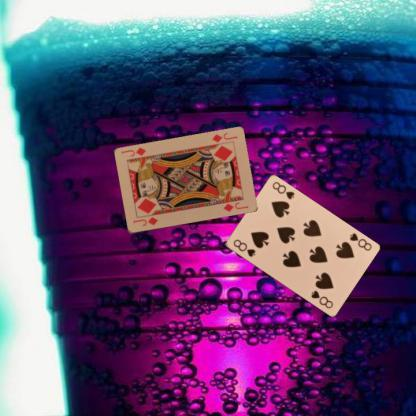8s: (346, 230, 372, 252), (230, 237, 256, 258)
Jd: (130, 214, 159, 228), (209, 130, 238, 144)
